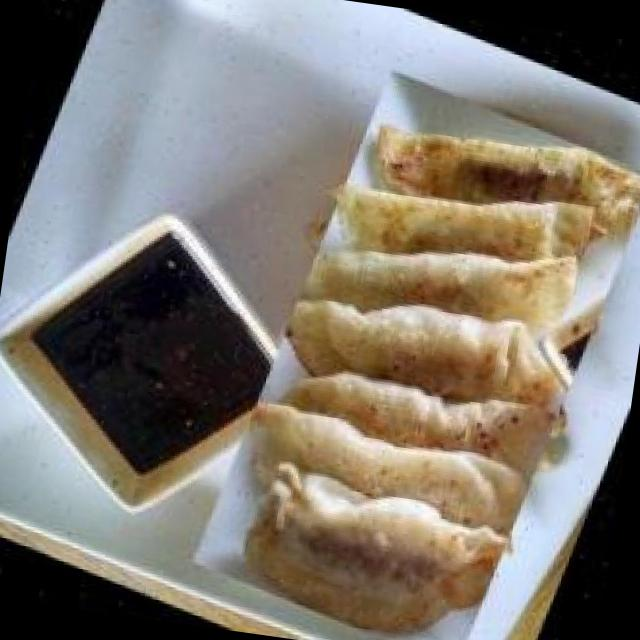fried_dumplings: (183, 51, 640, 640)
